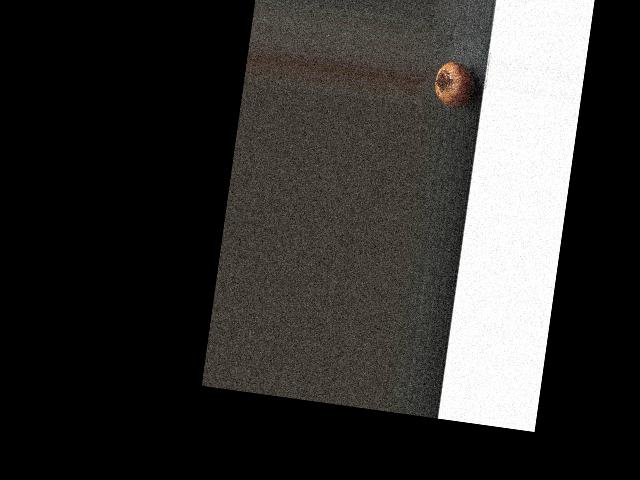beet: (432, 60, 477, 111)
